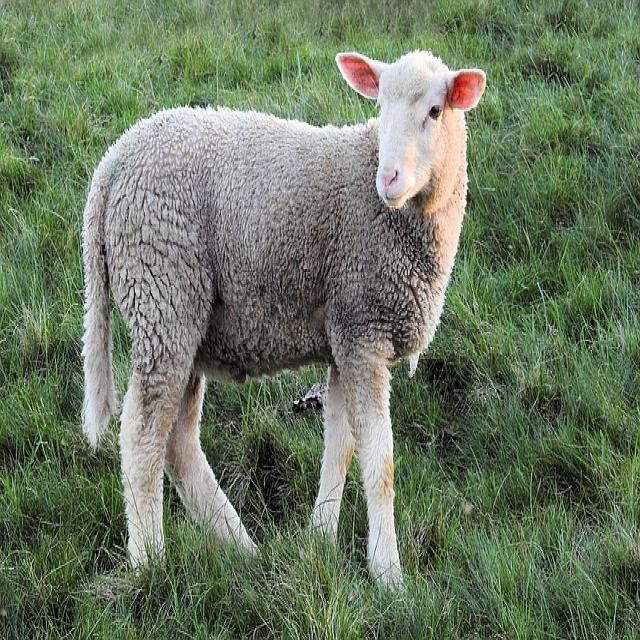goat: (82, 53, 485, 585)
